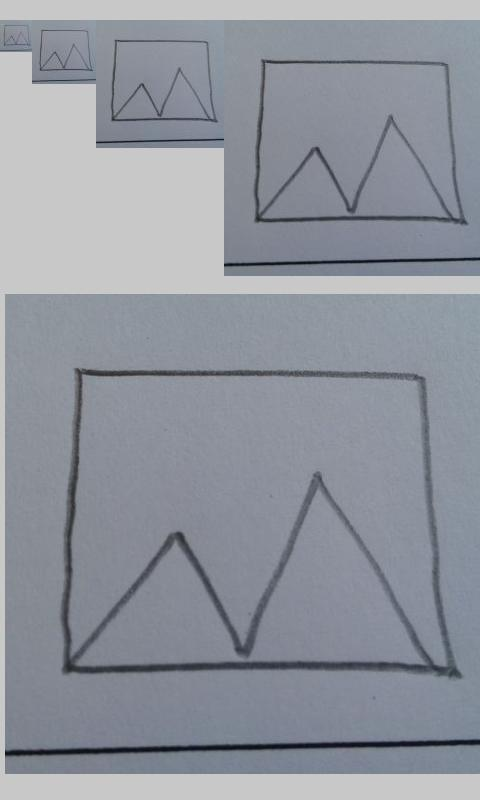image_view: (59, 366, 456, 679), (254, 57, 465, 225), (109, 38, 217, 123), (38, 28, 93, 73)
